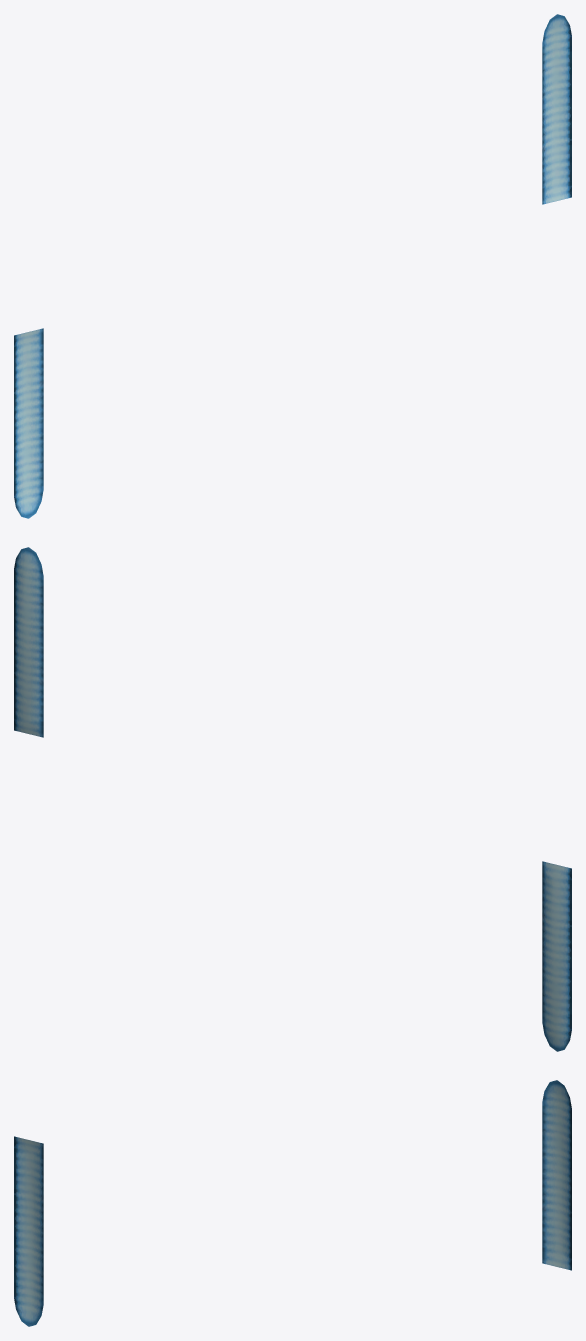
The model's file is xwing_engine_neg_s02_on_l0.fbx.
3 views of the same model, one above another, from view 1: azimuth 30°, elevation 25°; view 2: azimuth 150°, elevation 25°; view 3: azimuth 330°, elevation 25° (orthographic).
Visible parts, largest first — view 1: mesh_node; view 2: mesh_node; view 3: mesh_node.
Boxes of the visible parts, x1,y1,x2,y2 form: mesh_node: [14, 14, 571, 518]; mesh_node: [14, 547, 571, 1051]; mesh_node: [14, 1080, 571, 1326].
Size of the model in its own units: 3.67 by 2.36 by 0.0227.
